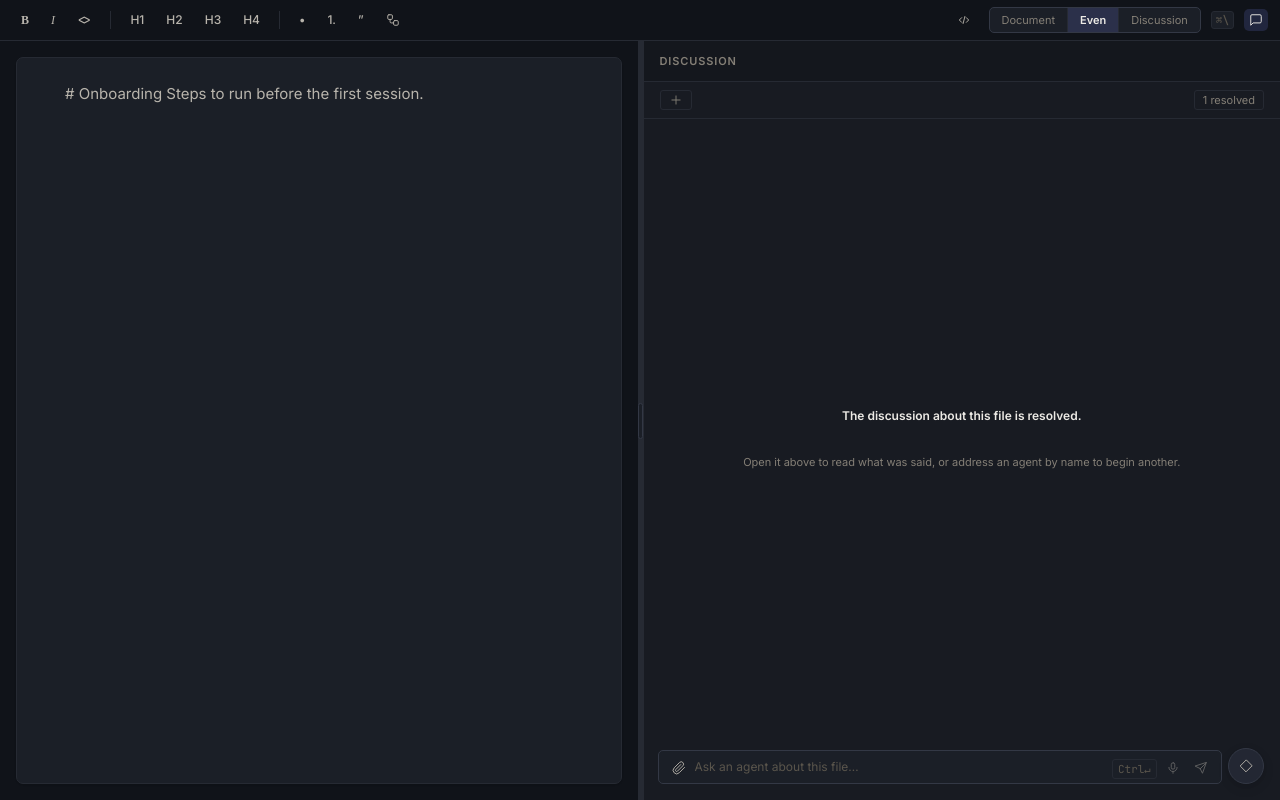
CTA-FR-VQFJ: the composer offers the project's agents › CTA-FR-SKXK, CMT-FR-16: gives a resolved thread no composer and so no way to address anyone
This screenshot has width=1280, height=800.
Expected: the element named "artifact body" is shown, [65, 84, 424, 103]
Click the button "1 resolved" at (1229, 100), box [1194, 90, 1264, 110]
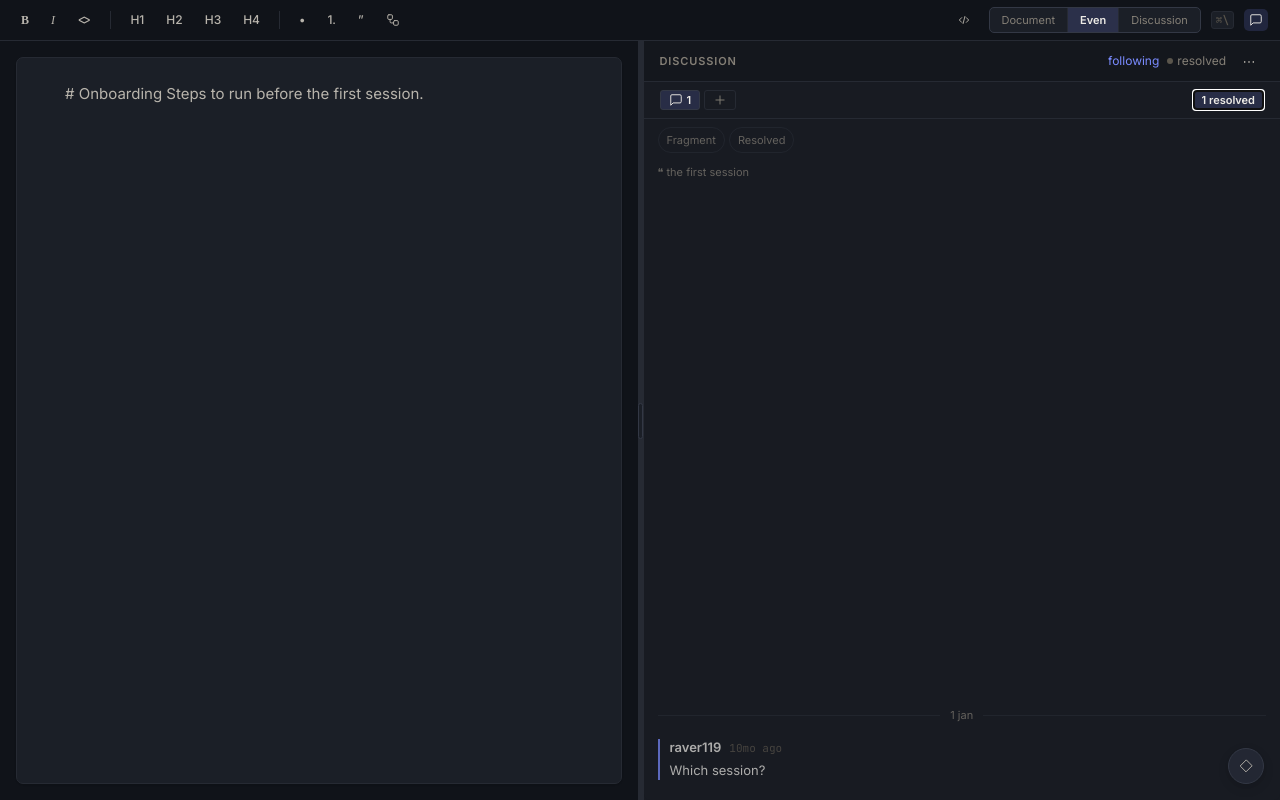
Expected: the element with test id "comment-thread-t1" is shown, [644, 119, 1279, 799]
